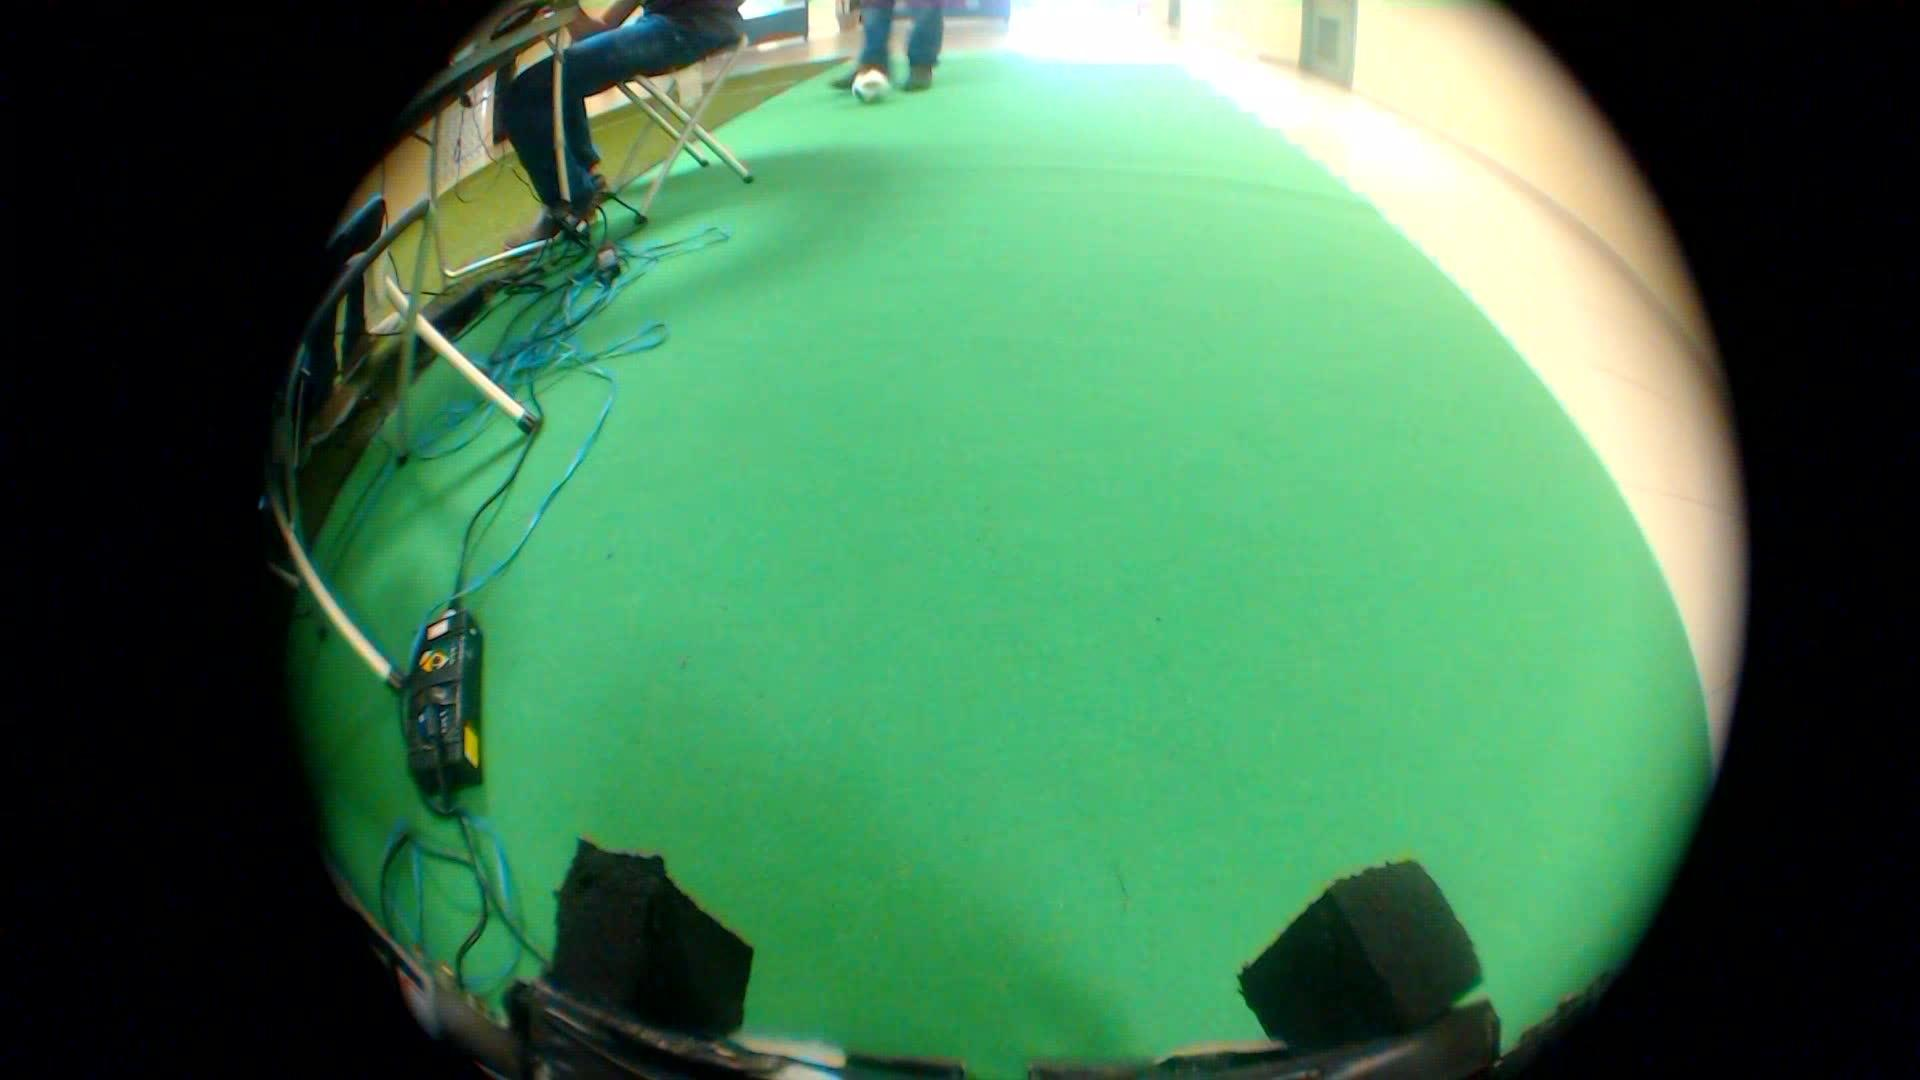ball: (837, 62, 887, 112)
